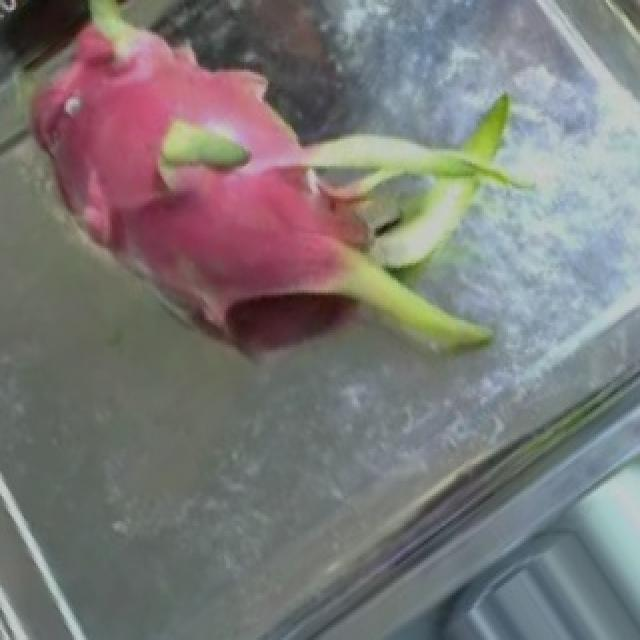fruit: (0, 0, 354, 427)
